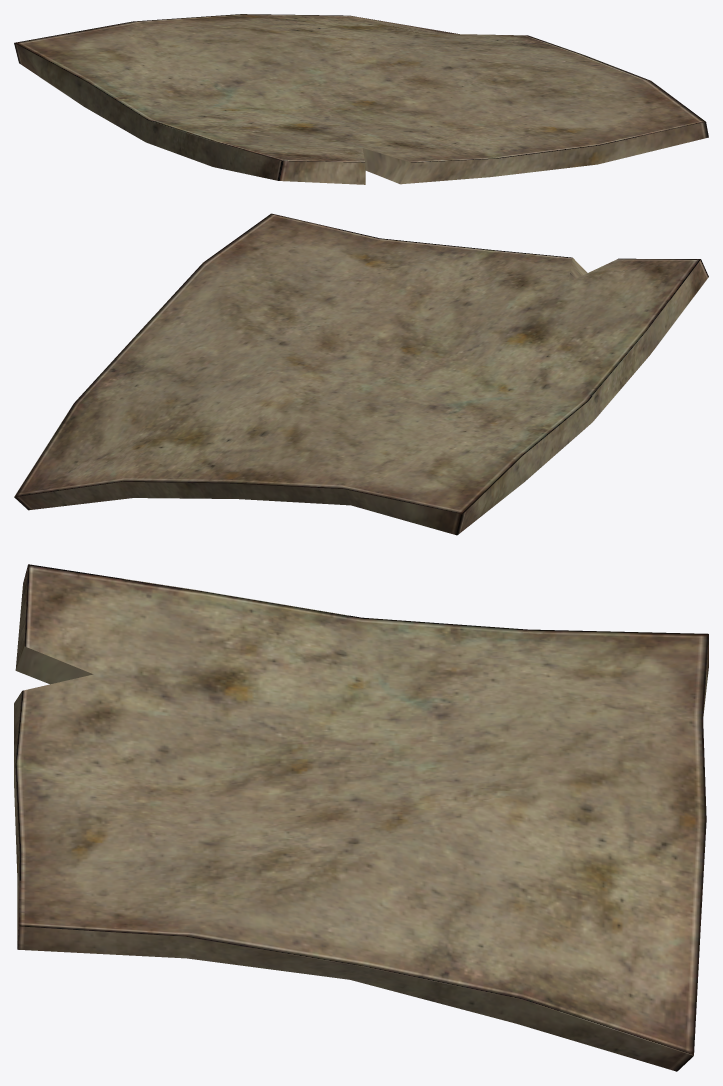
The model's file is pplant_ground_default_damaged03.dae.
3 views of the same model, one above another, from view 1: azimuth 30°, elevation 25°; view 2: azimuth 150°, elevation 25°; view 3: azimuth 270°, elevation 25° (orthographic). The views are drawn at different scales.
Parts seen in each view (by area): view 1: ground_default_damaged03; view 2: ground_default_damaged03; view 3: ground_default_damaged03.
Part boxes in pixels (<box>): ground_default_damaged03: <box>14,14,708,184</box>; ground_default_damaged03: <box>14,213,708,535</box>; ground_default_damaged03: <box>14,564,708,1071</box>.
Bounding box in the file's own units: 2.04 × 0.7448 × 2.02.
